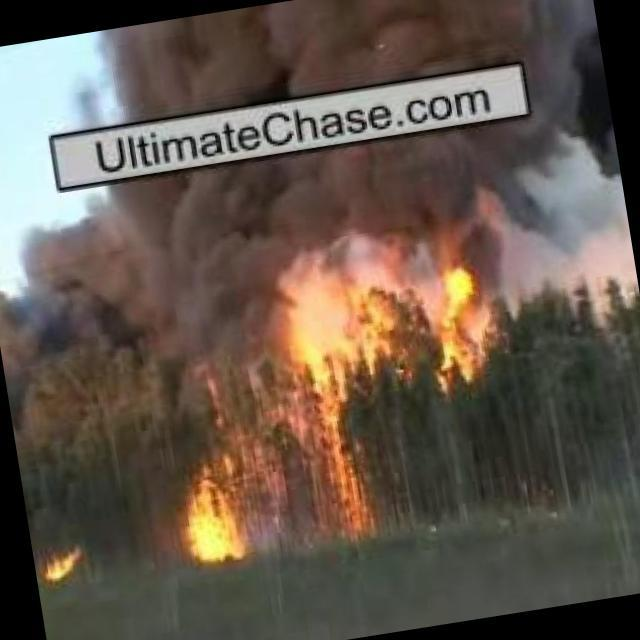Fire: (292, 326, 379, 534), (168, 446, 262, 571), (423, 253, 498, 377), (39, 540, 89, 588)
